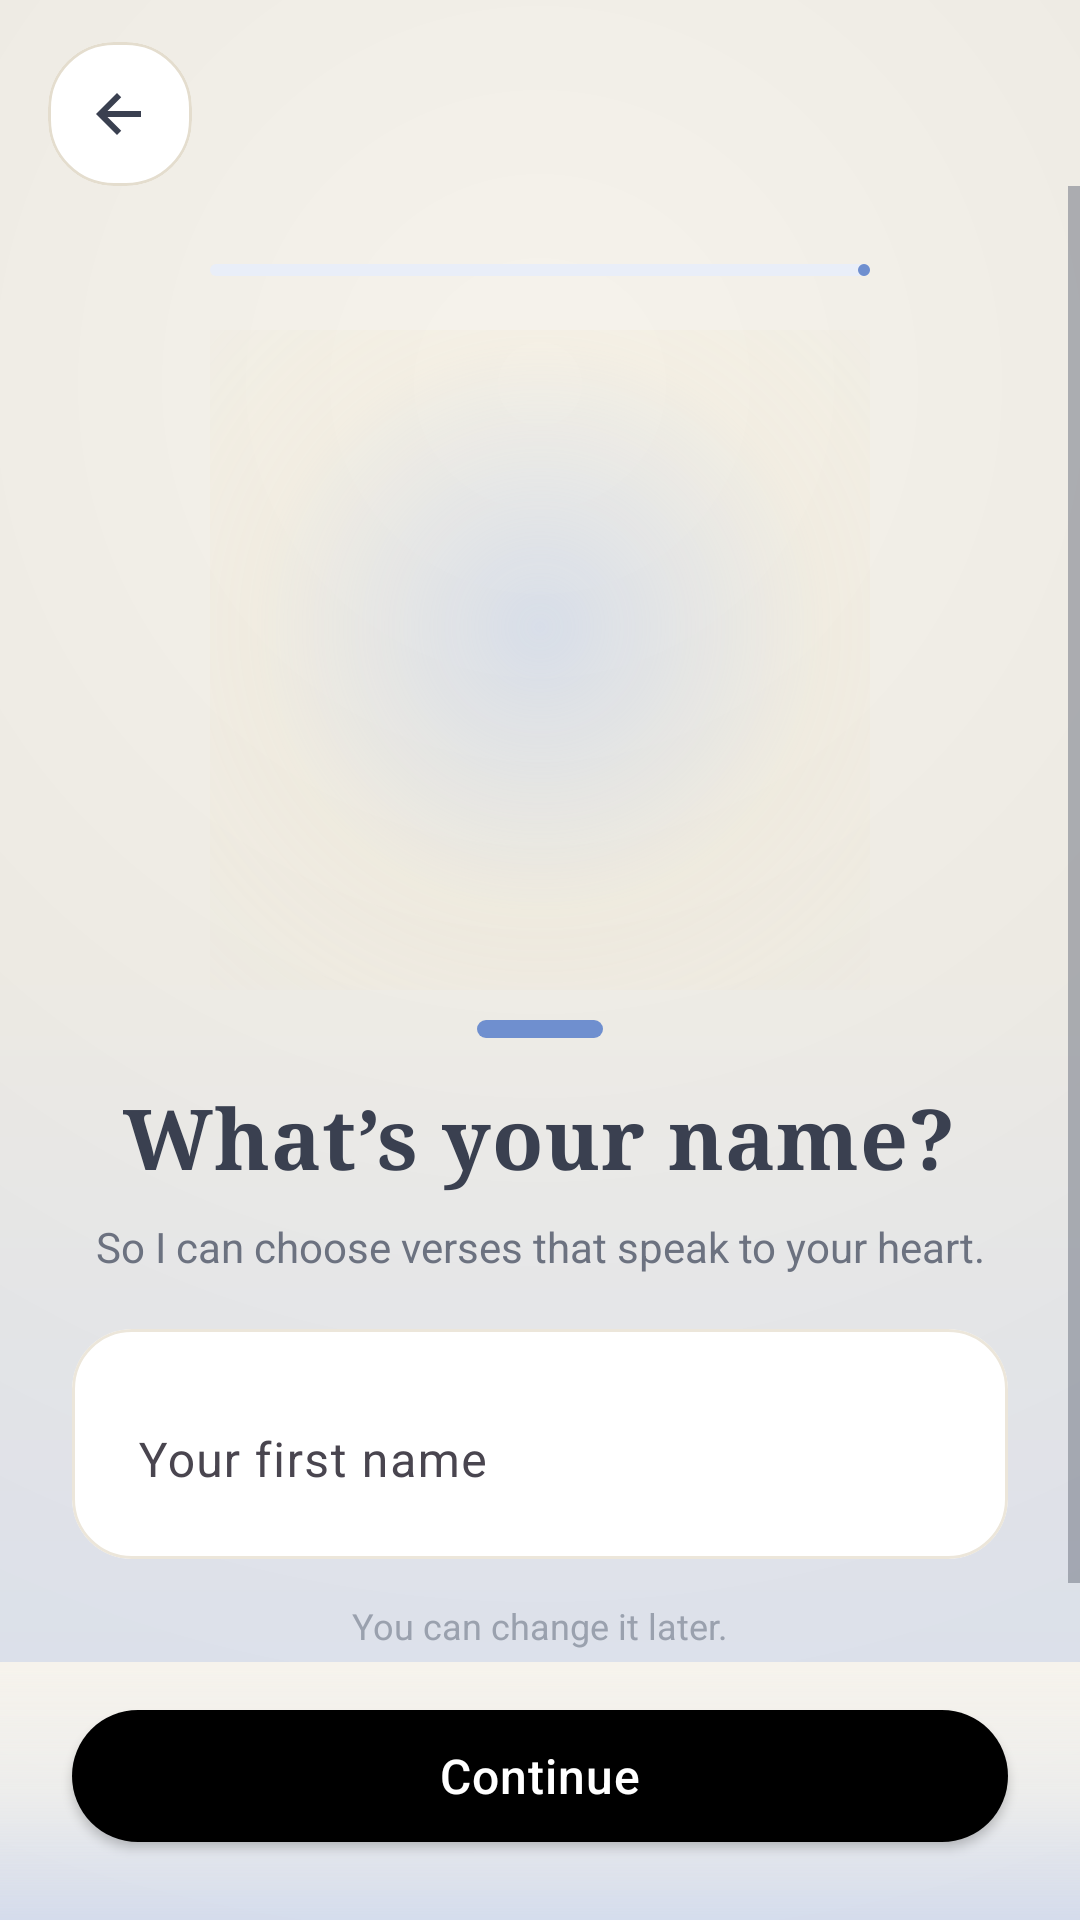

Icons on this 1080x1920 Android screen, each with its box as (x1, y1, x2, y2):
Back: (48, 42, 192, 186)
